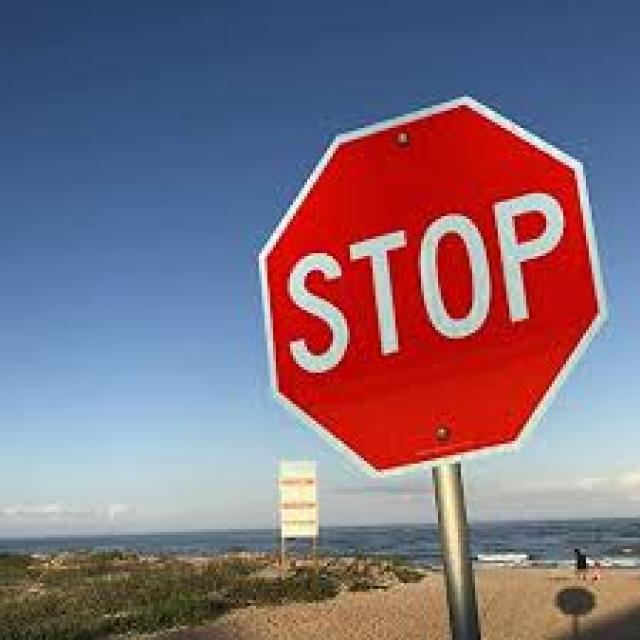stop-sign: (253, 104, 610, 508)
